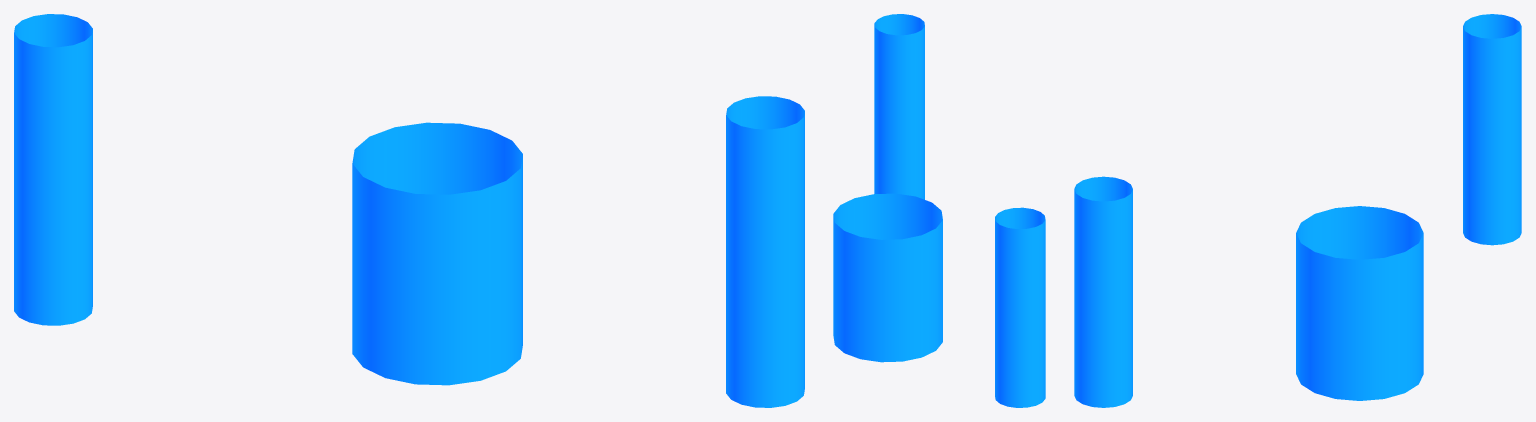
Rendered from Scifi Glass.fbx.
3 renders of one model, left to right at view 1: azimuth 30°, elevation 25°; view 2: azimuth 150°, elevation 25°; view 3: azimuth 270°, elevation 25°, orthographic. The views are drawn at different scales.
Visible parts, largest first — view 1: MeshBaker__5__mesh_mesh; view 2: MeshBaker__5__mesh_mesh; view 3: MeshBaker__5__mesh_mesh.
Part boxes in pixels (box(x1,y1,x2,y2)): MeshBaker__5__mesh_mesh: box(14, 14, 804, 407); MeshBaker__5__mesh_mesh: box(833, 14, 1045, 407); MeshBaker__5__mesh_mesh: box(1074, 14, 1521, 407).
Bounding box in the file's own units: 2993 × 1793 × 3018.
